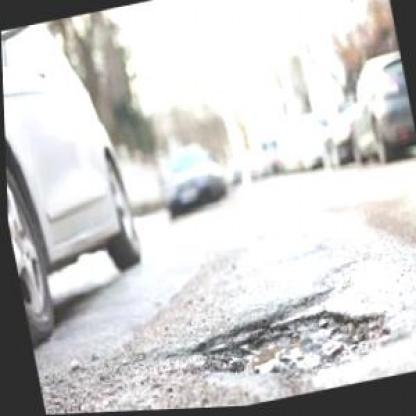pothole: (183, 276, 394, 399)
